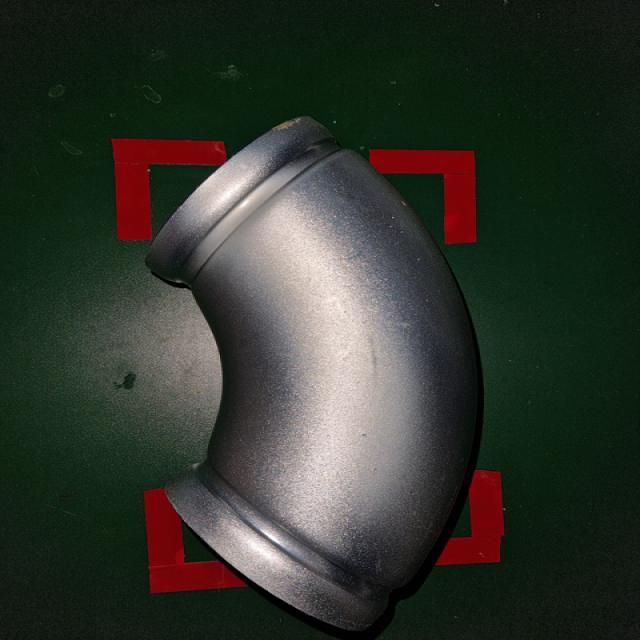Normal: (135, 110, 508, 640)
